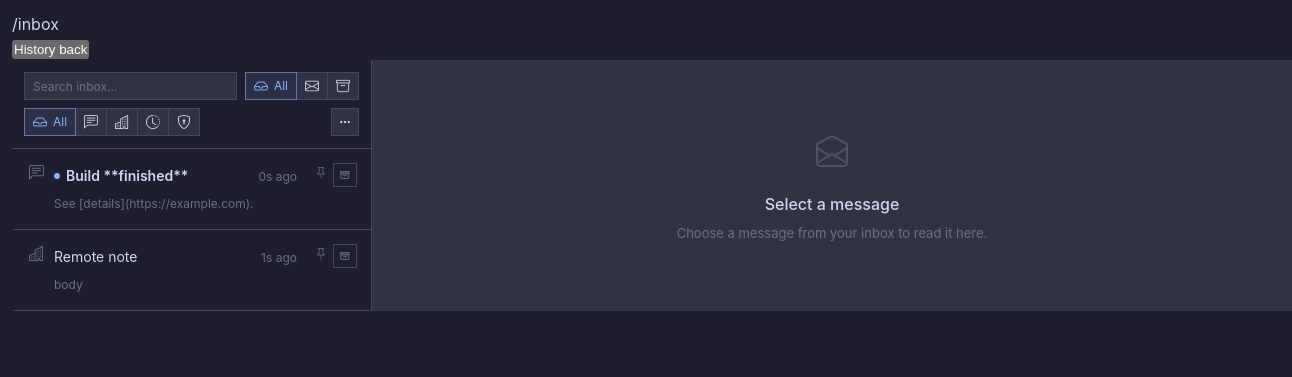
it: Inbox › archives the last message and opens the message above
Click the button "Remote note 1s ago body": (96, 257) [44,230,311,310]
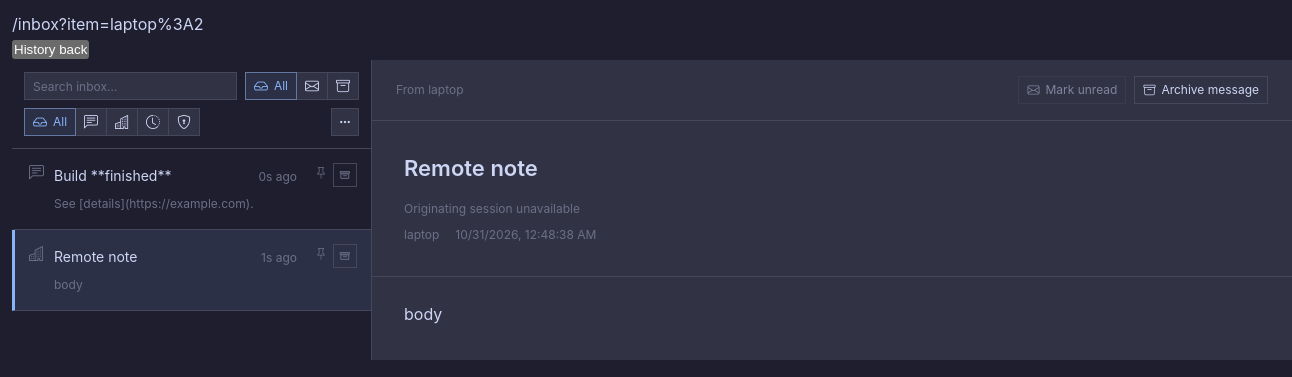
Click the button "Archive message": (1201, 90) [1134,76,1268,104]
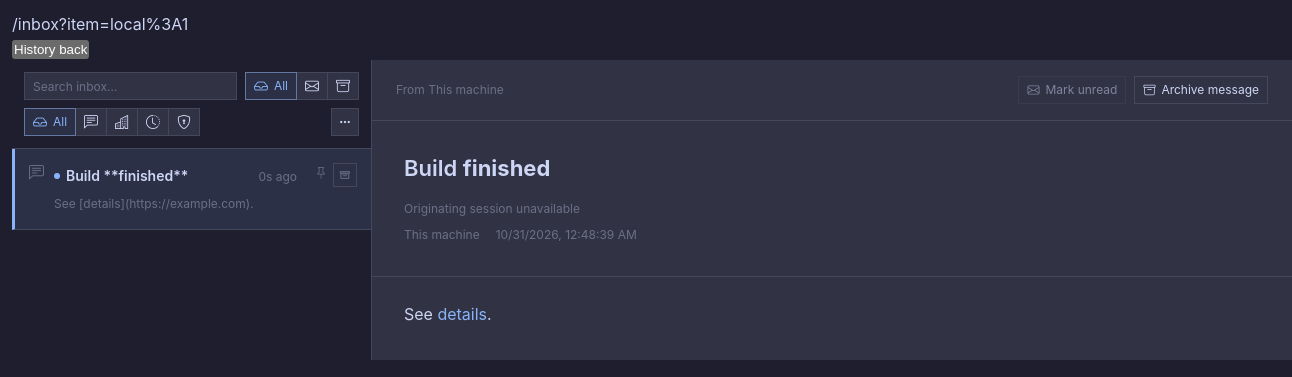
Check: the heading "Build finished" is shown, box [404,155,550,181]
